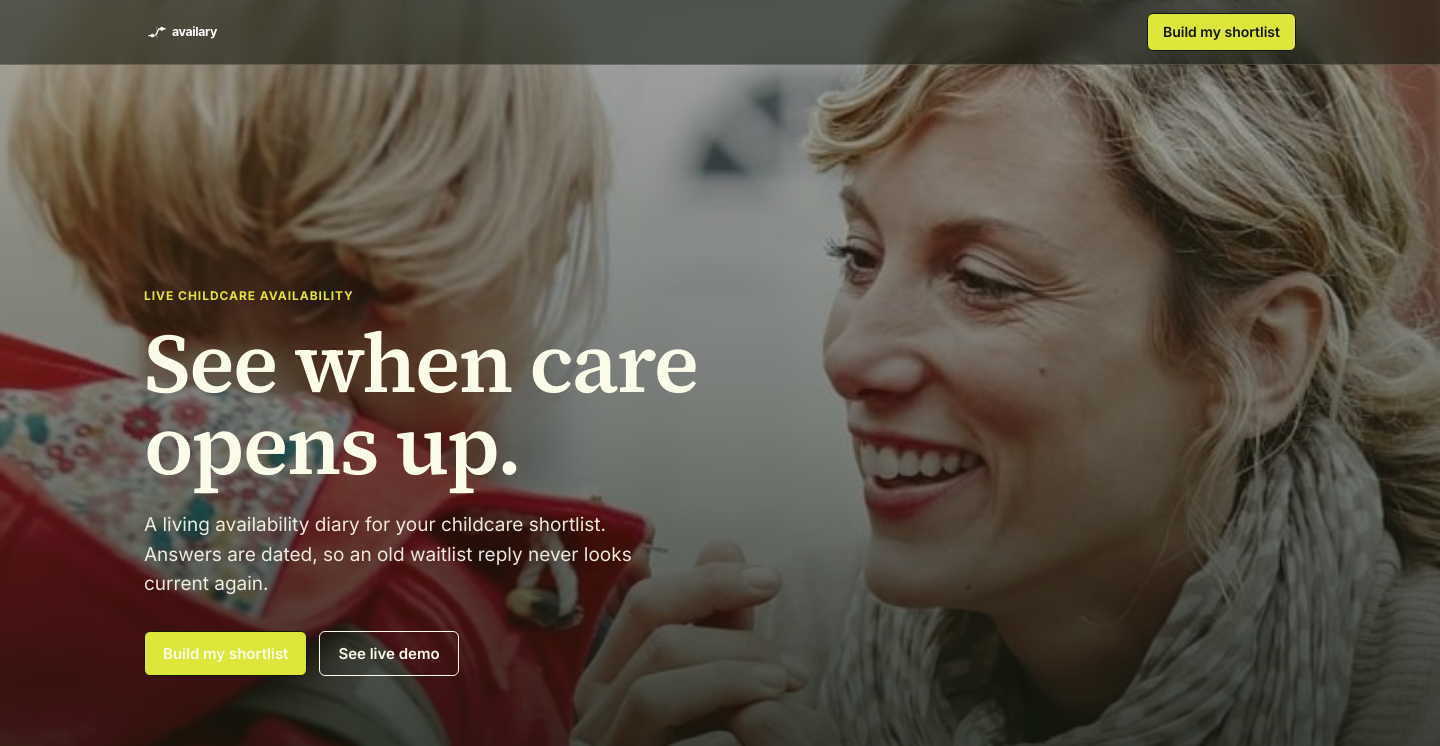
Test: 1. landing primary CTA routes to the sign-in gate
This screenshot has width=1440, height=746.
Click the 1st link "Build my shortlist".
click(1221, 32)  # box [1147, 13, 1296, 51]
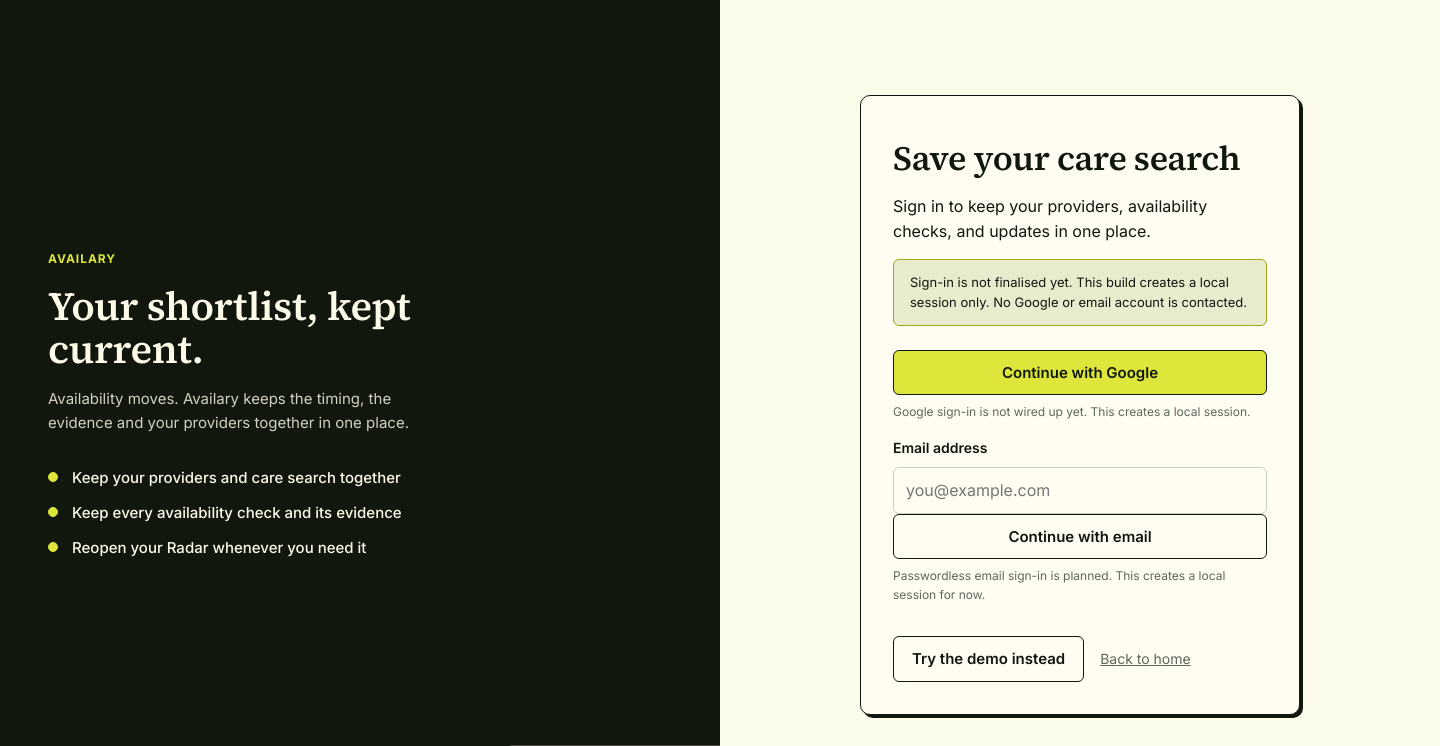
Check: the heading "Save your care search" is shown, box [893, 140, 1267, 178]
